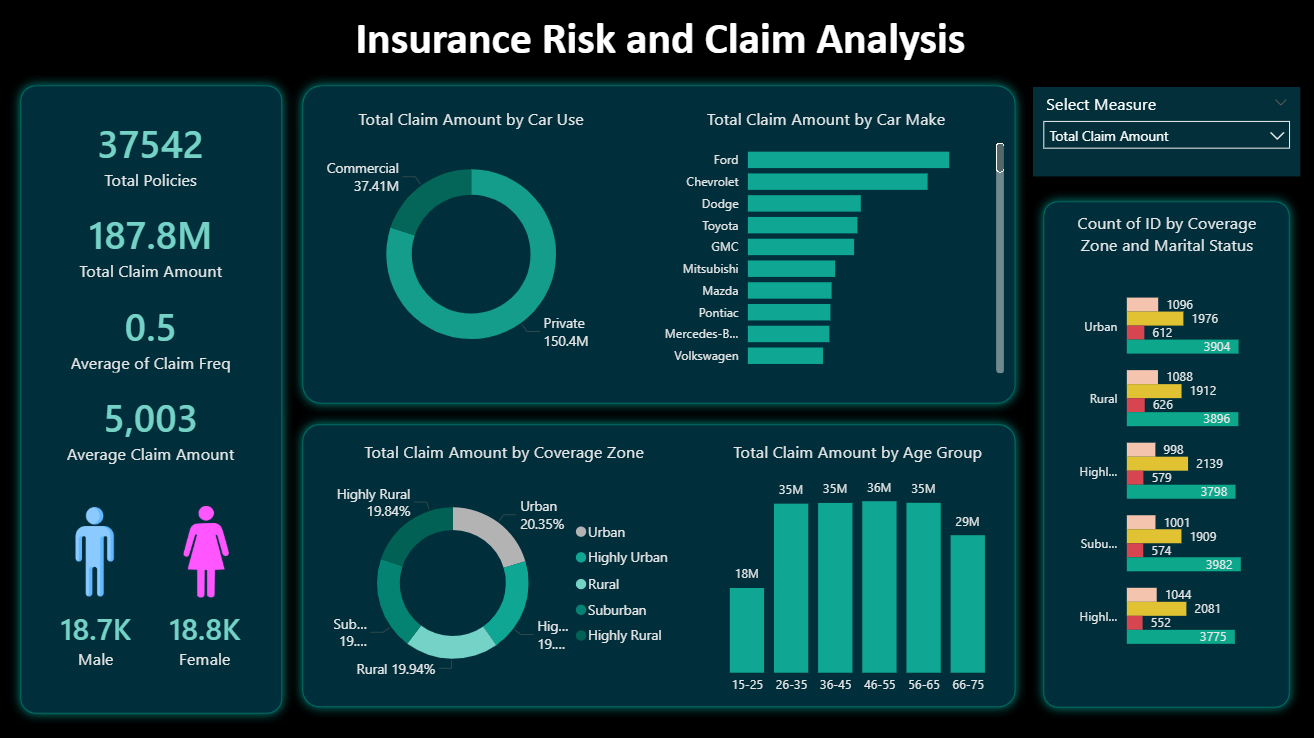

This screenshot's page, from the dashboard's own definition file:
{"tool":"powerbi","page":{"name":"Dashboard 1","canvas":[1280,720],"ordinal":0},"visuals":[{"type":"textbox","box":[336.1,6.2,615.4,66.5],"z":0},{"type":"shape","box":[11.5,72.7,274.9,631.3],"z":1000},{"type":"cardVisual","fields":{"Data":["Car_Insurance_Data.Total Policies","Car_Insurance_Data.Total Claim Amount","Avg(Car_Insurance_Data.Claim Freq)","Car_Insurance_Data.Average Claim Amount"]},"box":[31.9,91.3,233.2,385.7],"z":2000},{"type":"cardVisual","fields":{"Data":["Car_Insurance_Data.Male Count","Car_Insurance_Data.Female Count"]},"box":[29.3,565.7,238.5,110],"z":3000},{"type":"image","box":[50.5,492.1,86.9,88.7],"z":4000},{"type":"image","box":[159.6,492.1,86,88.7],"z":5000},{"type":"slicer","fields":{"Values":["Select Measure.Select Measure"]},"box":[1007.1,84.7,260.1,86.7],"z":6000},{"type":"shape","box":[286.4,72.7,713.8,329.9],"z":7000},{"type":"donutChart","fields":{"Y":["Car_Insurance_Data.Total Claim Amount"],"Category":["Car_Insurance_Data.Car Use"]},"box":[306.8,105.5,307.7,263.3],"z":8000},{"type":"clusteredBarChart","fields":{"Y":["Car_Insurance_Data.Total Claim Amount"],"Category":["Car_Insurance_Data.Car Make"]},"box":[626.9,105.5,356.5,263.3],"z":9000},{"type":"shape","box":[286.4,402.6,713.8,295.3],"z":10000},{"type":"donutChart","fields":{"Y":["Car_Insurance_Data.Total Claim Amount"],"Category":["Car_Insurance_Data.Coverage Zone"]},"box":[319.2,429.2,346.7,255.4],"z":11000},{"type":"clusteredColumnChart","fields":{"Y":["Car_Insurance_Data.Total Claim Amount"],"Category":["Car_Insurance_Data.Age_Group"]},"box":[689.9,429.2,293.5,255.4],"z":12000},{"type":"shape","box":[1006.7,185.8,259.7,512.6],"z":12001},{"type":"clusteredBarChart","fields":{"Category":["Car_Insurance_Data.Coverage Zone"],"Series":["Car_Insurance_Data.Marital Status"],"Y":["CountNonNull(Car_Insurance_Data.ID)"]},"box":[1032.9,206.2,208.1,455.2],"z":12002}]}

Visuals, with their boxes in screenshot pixels (x1, y1, x2, y2), scaled from the page's 1280x720 canvas onto the 1314x738 screenshot:
textbox: BBox(345, 6, 977, 75)
shape: BBox(12, 75, 294, 722)
cardVisual - Car_Insurance_Data.Total Policies x Car_Insurance_Data.Total Claim Amount: BBox(33, 94, 272, 489)
cardVisual - Car_Insurance_Data.Male Count x Car_Insurance_Data.Female Count: BBox(30, 580, 275, 693)
image: BBox(52, 504, 141, 595)
image: BBox(164, 504, 252, 595)
slicer - Select Measure.Select Measure: BBox(1034, 87, 1301, 176)
shape: BBox(294, 75, 1027, 413)
donutChart - Car_Insurance_Data.Total Claim Amount x Car_Insurance_Data.Car Use: BBox(315, 108, 631, 378)
clusteredBarChart - Car_Insurance_Data.Total Claim Amount x Car_Insurance_Data.Car Make: BBox(644, 108, 1010, 378)
shape: BBox(294, 413, 1027, 715)
donutChart - Car_Insurance_Data.Total Claim Amount x Car_Insurance_Data.Coverage Zone: BBox(328, 440, 684, 702)
clusteredColumnChart - Car_Insurance_Data.Total Claim Amount x Car_Insurance_Data.Age_Group: BBox(708, 440, 1010, 702)
shape: BBox(1033, 190, 1300, 716)
clusteredBarChart - Car_Insurance_Data.Coverage Zone x Car_Insurance_Data.Marital Status: BBox(1060, 211, 1274, 678)
